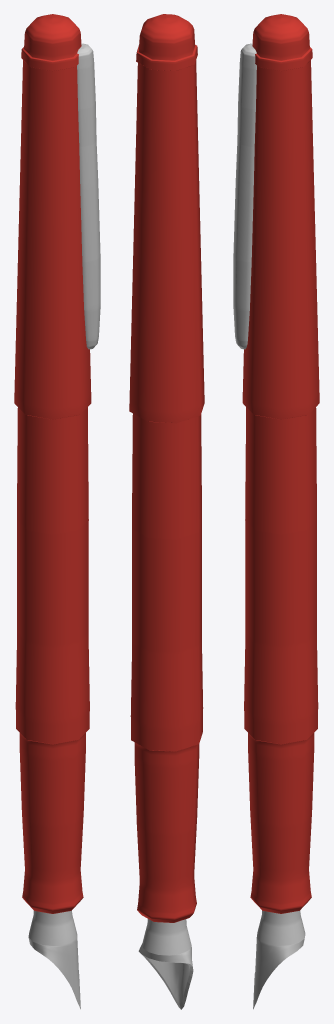
File: pen.obj
3 views of the same model, side by side, from view 1: azimuth 90°, elevation 25°; view 2: azimuth 150°, elevation 25°; view 3: azimuth 270°, elevation 25° (orthographic).
Parts seen in each view (by area): view 1: pen_pen_lambert2SG, pen_pen_lambert4SG, pen_pen_lambert3SG; view 2: pen_pen_lambert2SG, pen_pen_lambert3SG; view 3: pen_pen_lambert2SG, pen_pen_lambert4SG, pen_pen_lambert3SG.
Part boxes in pixels (box(x1,y1,x2,y2)): pen_pen_lambert2SG: box(14, 14, 91, 913); pen_pen_lambert4SG: box(77, 43, 100, 349); pen_pen_lambert3SG: box(28, 910, 80, 1009); pen_pen_lambert2SG: box(129, 14, 204, 922); pen_pen_lambert3SG: box(138, 919, 193, 1009); pen_pen_lambert2SG: box(242, 14, 319, 913); pen_pen_lambert4SG: box(233, 43, 256, 349); pen_pen_lambert3SG: box(253, 910, 305, 1009).
Bounding box in the file's own units: 1.85 × 26.17 × 2.07.
